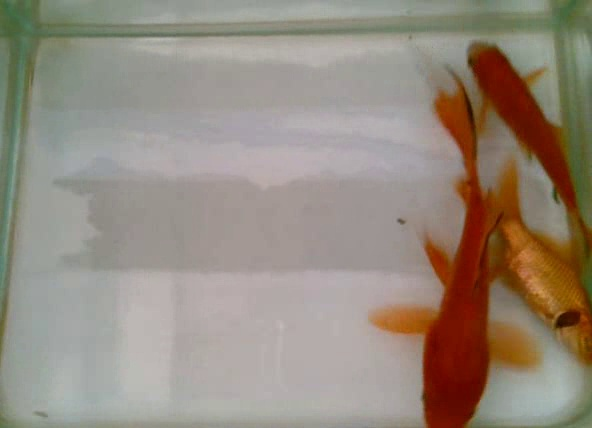alive_fish: (364, 61, 546, 428), (464, 36, 592, 270)
dead_fish: (447, 156, 592, 368)
